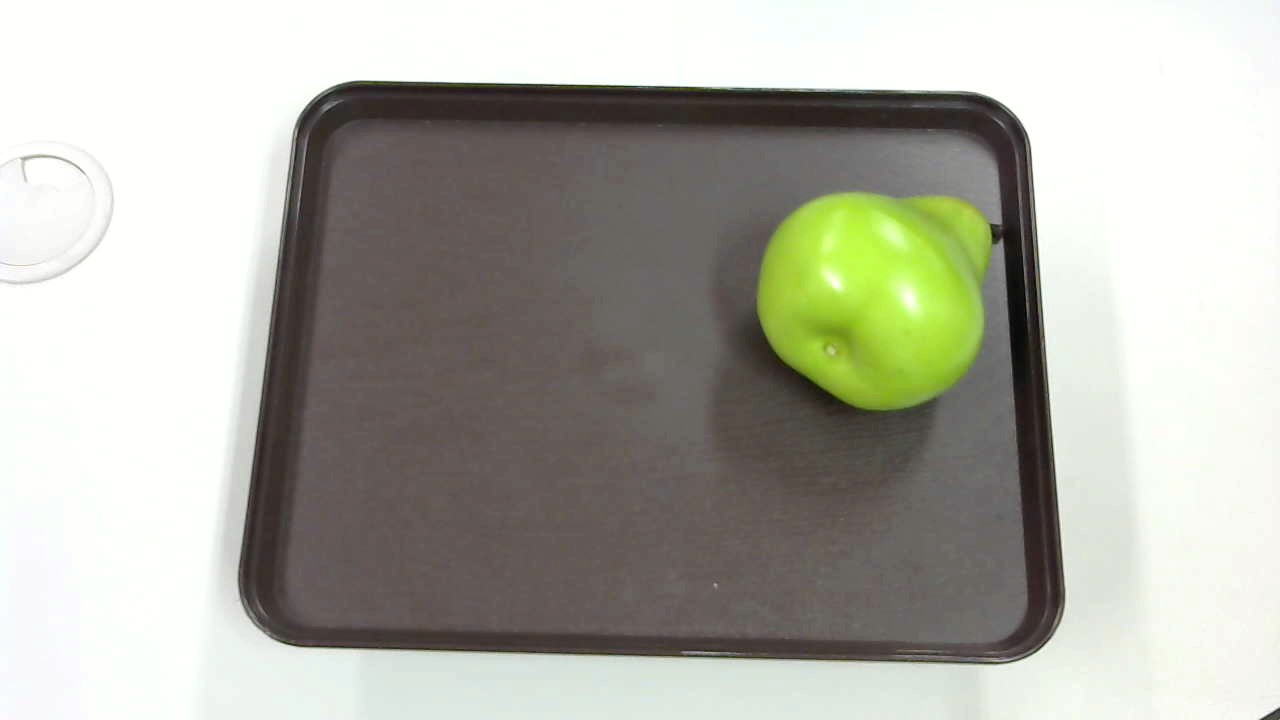green pear: (744, 188, 1012, 420)
